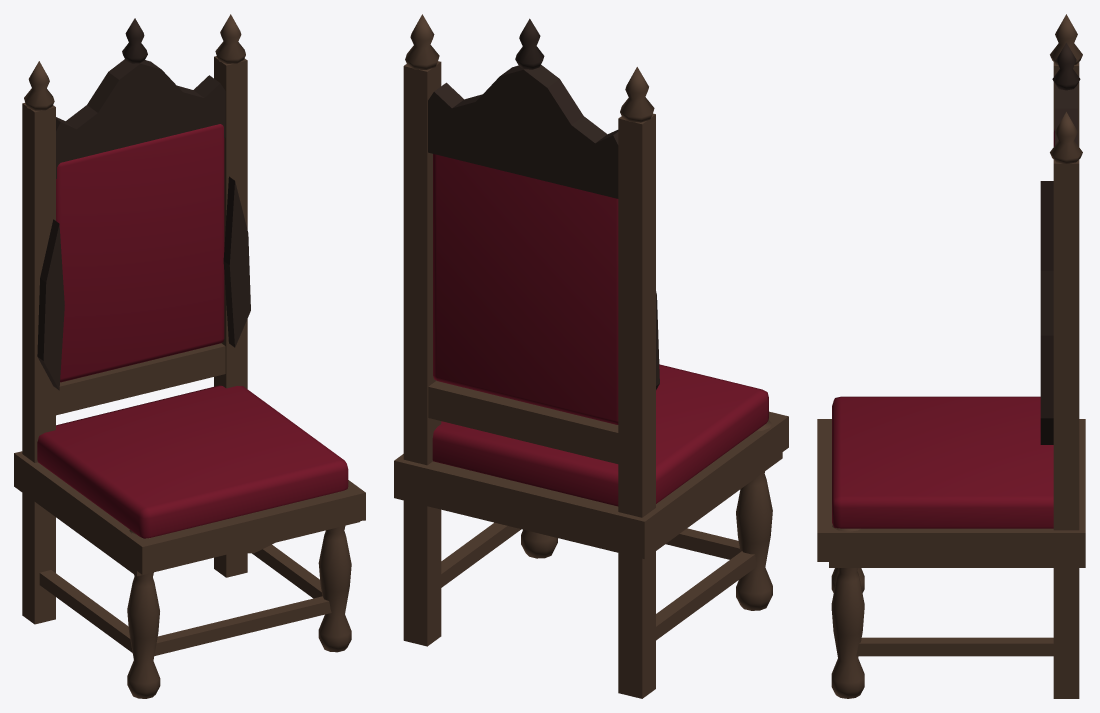
The model's file is chair_high.glb.
The picture shows the model from 3 angles, left to right: view 1: azimuth 30°, elevation 25°; view 2: azimuth 150°, elevation 25°; view 3: azimuth 270°, elevation 25°; orthographic projection. The views are drawn at different scales.
Visible parts, largest first — view 1: chair_high; view 2: chair_high; view 3: chair_high.
Part boxes in pixels (bbox=[...]): chair_high: bbox=[14, 14, 365, 698]; chair_high: bbox=[394, 14, 788, 698]; chair_high: bbox=[817, 14, 1085, 698].
Bounding box in the file's own units: 0.42 × 1.03 × 0.418.
